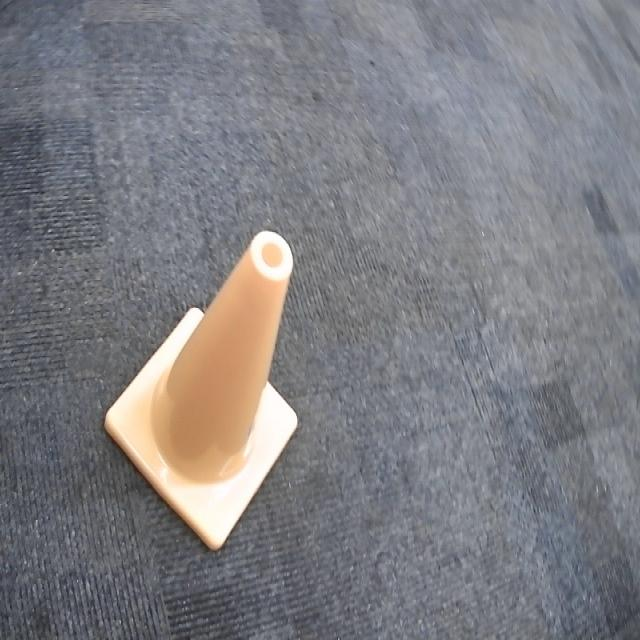cone: (104, 230, 299, 554)
